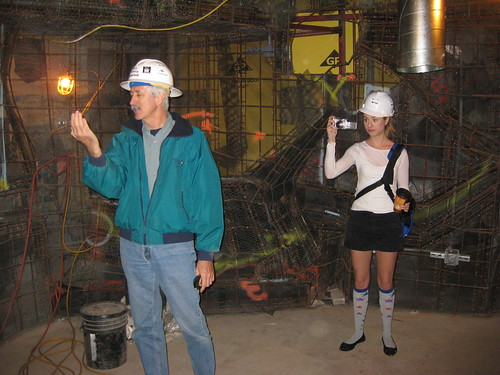person hardhat: (65, 59, 229, 375), (316, 88, 431, 363)
